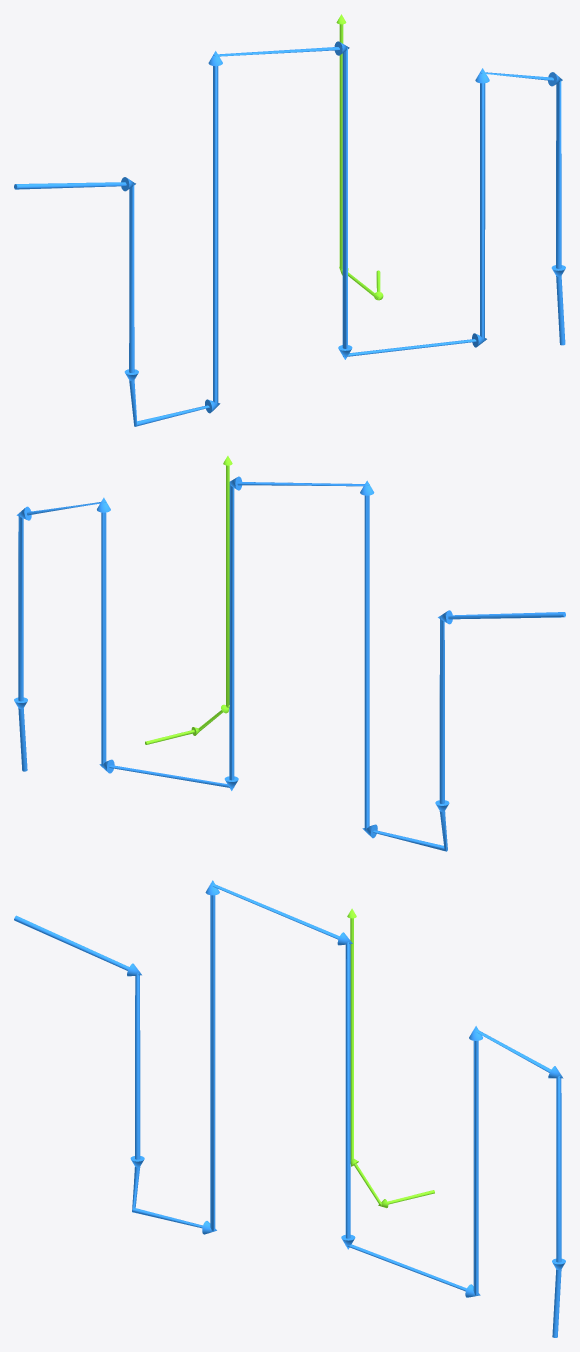
File: demineralization_plant_flow.glb
3 views of the same model, one above another, from view 1: azimuth 30°, elevation 25°; view 2: azimuth 150°, elevation 25°; view 3: azimuth 330°, elevation 25° (orthographic).
Parts seen in each view (by area): view 1: water, air; view 2: water, air; view 3: water, air.
Boxes of the visible parts, left/top/right/bottom form: water: left=14, top=41, right=565, bottom=426; air: left=336, top=14, right=383, bottom=300; water: left=14, top=476, right=565, bottom=851; air: left=145, top=456, right=232, bottom=744; water: left=14, top=880, right=565, bottom=1337; air: left=347, top=908, right=434, bottom=1208.
Size of the model in its own units: 4.15 by 2.71 by 0.4528.
